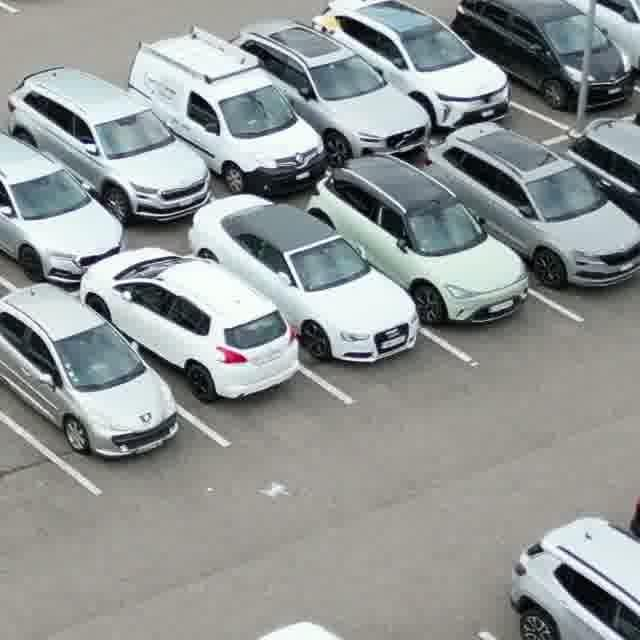Drohne: (260, 482, 290, 498)
